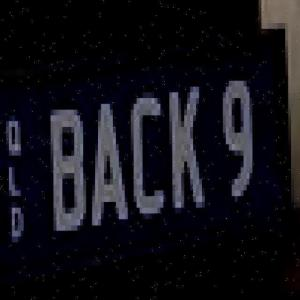Plate: (2, 61, 300, 292), (200, 136, 222, 162)
